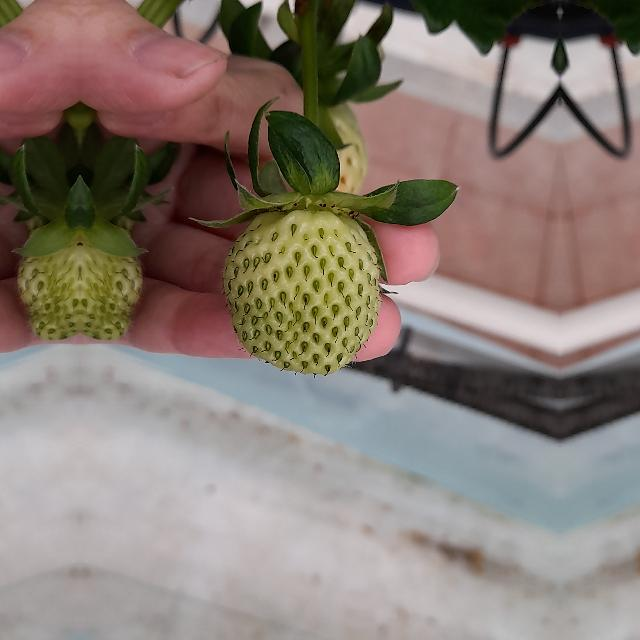Health_25: (223, 209, 381, 375), (11, 218, 80, 349), (80, 218, 148, 349)
